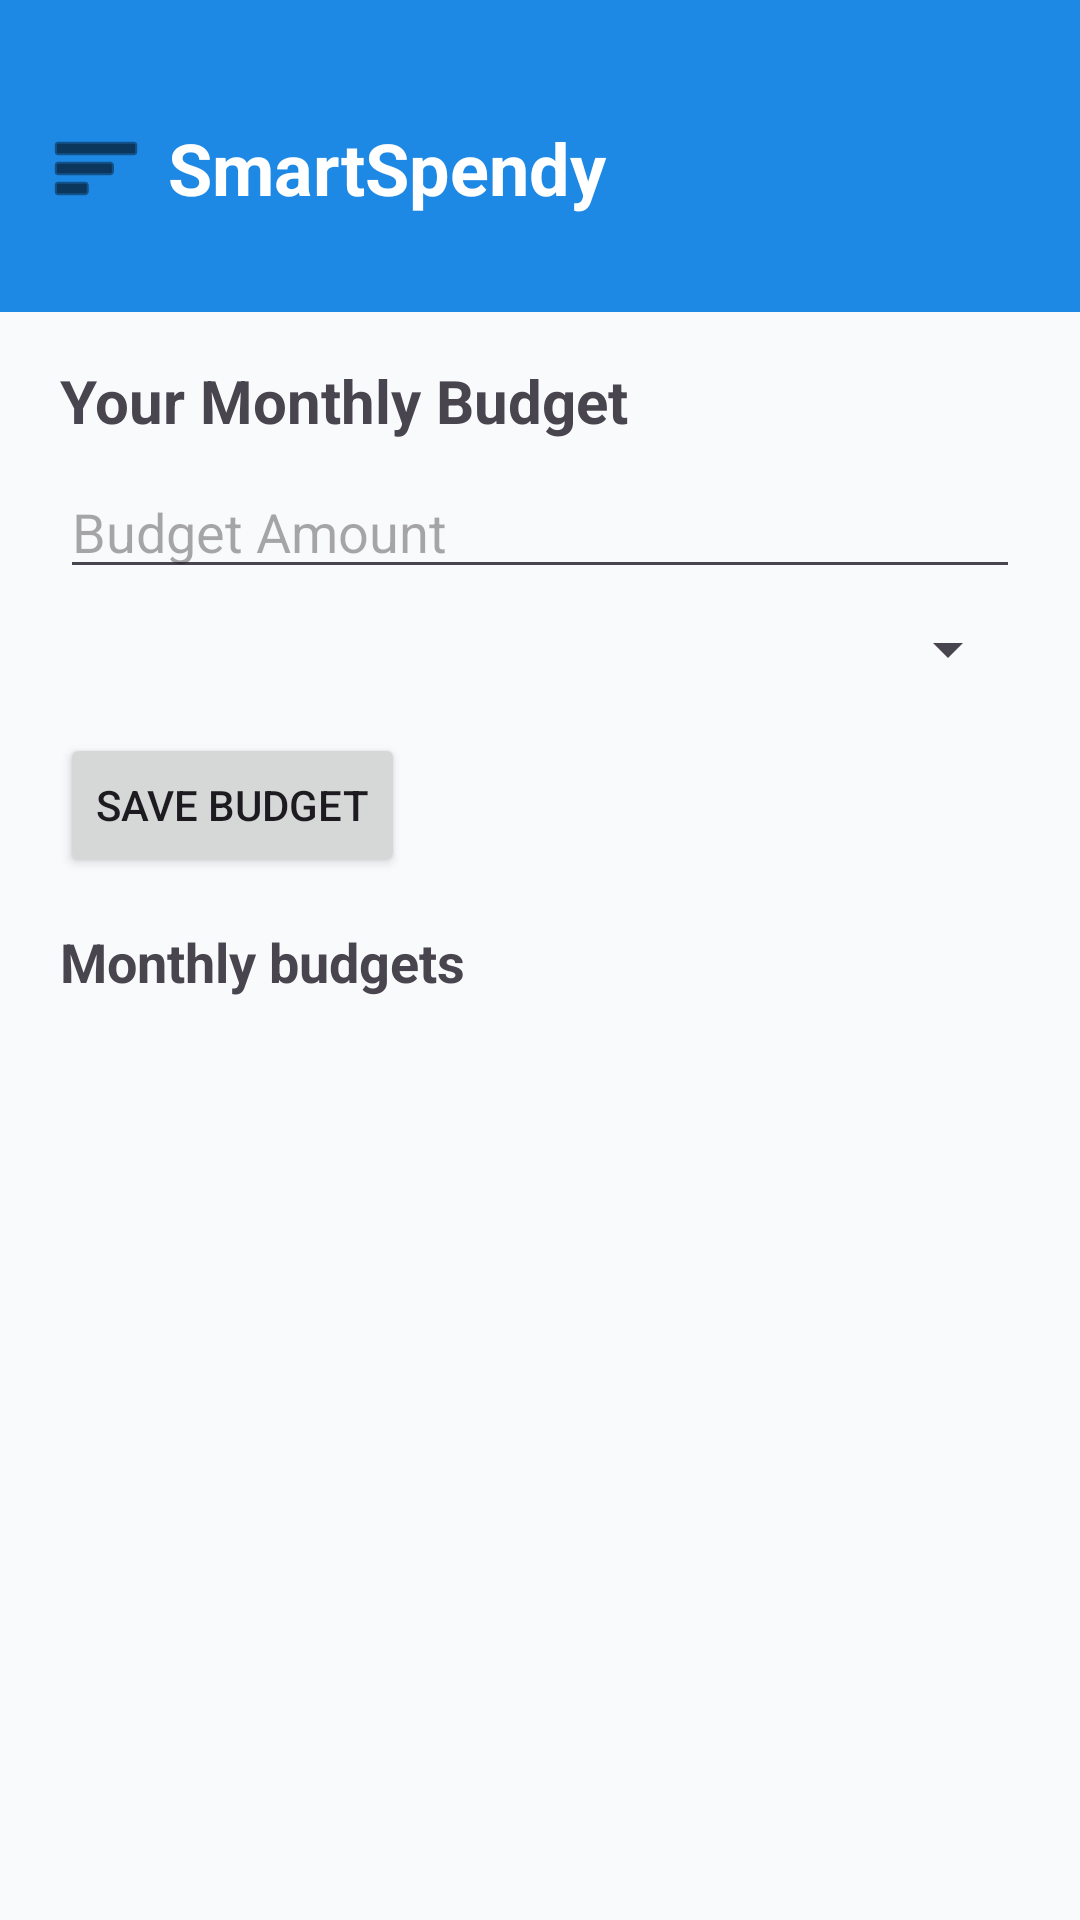

Where to tap for icons on this 1080x1920 app screen, as point (x, y):
Menu: point (96, 168)
